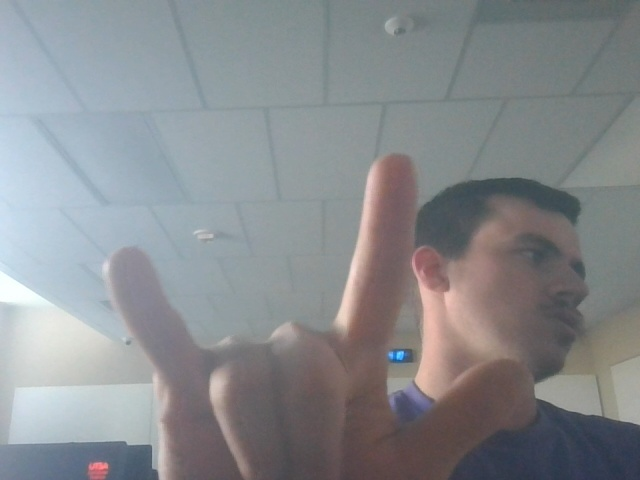iloveyou: (92, 143, 537, 480)
